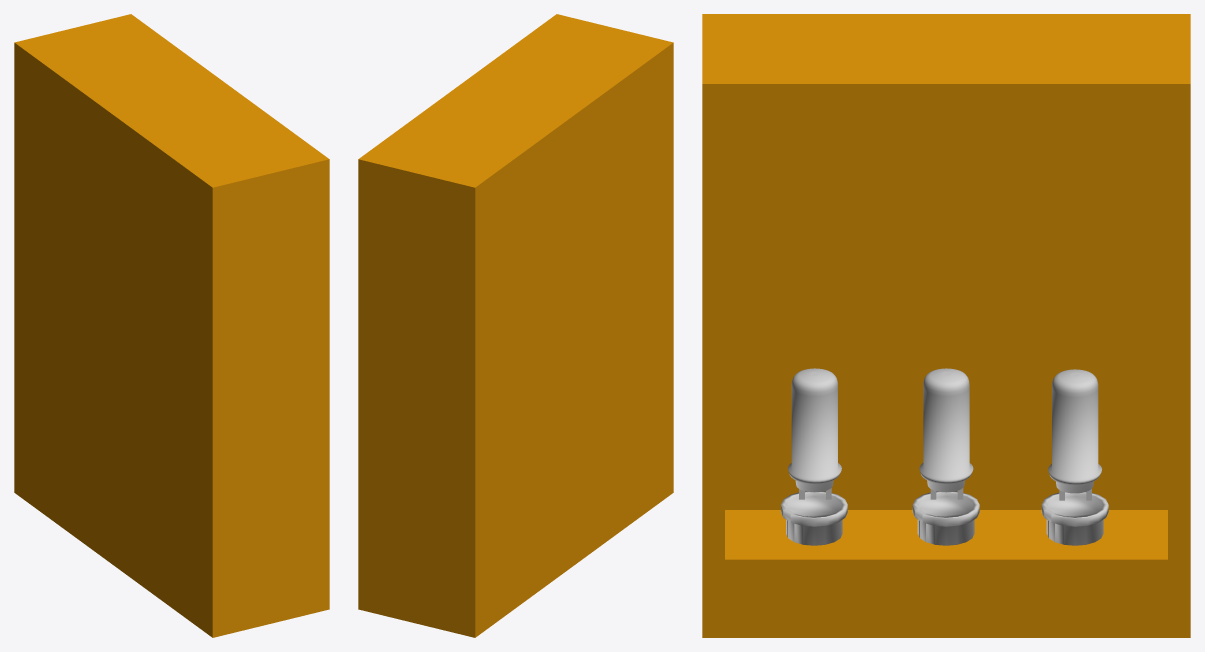
Rendered from fusebox.fbx.
3 views of the same model, side by side, from view 1: azimuth 30°, elevation 25°; view 2: azimuth 150°, elevation 25°; view 3: azimuth 270°, elevation 25° (orthographic). The views are drawn at different scales.
Visible parts, largest first — view 1: Fusebox; view 2: Fusebox; view 3: Fusebox, Fuse, Fuse.002, Fuse.001.
Part boxes in pixels (left/top/right/bottom): Fusebox: left=14, top=14, right=329, bottom=637; Fusebox: left=358, top=14, right=673, bottom=637; Fusebox: left=702, top=14, right=1190, bottom=637; Fuse: left=919, top=368, right=973, bottom=499; Fuse.002: left=788, top=368, right=841, bottom=499; Fuse.001: left=1048, top=369, right=1101, bottom=500.
Size of the model in its own units: 36.83 by 136 by 108.
